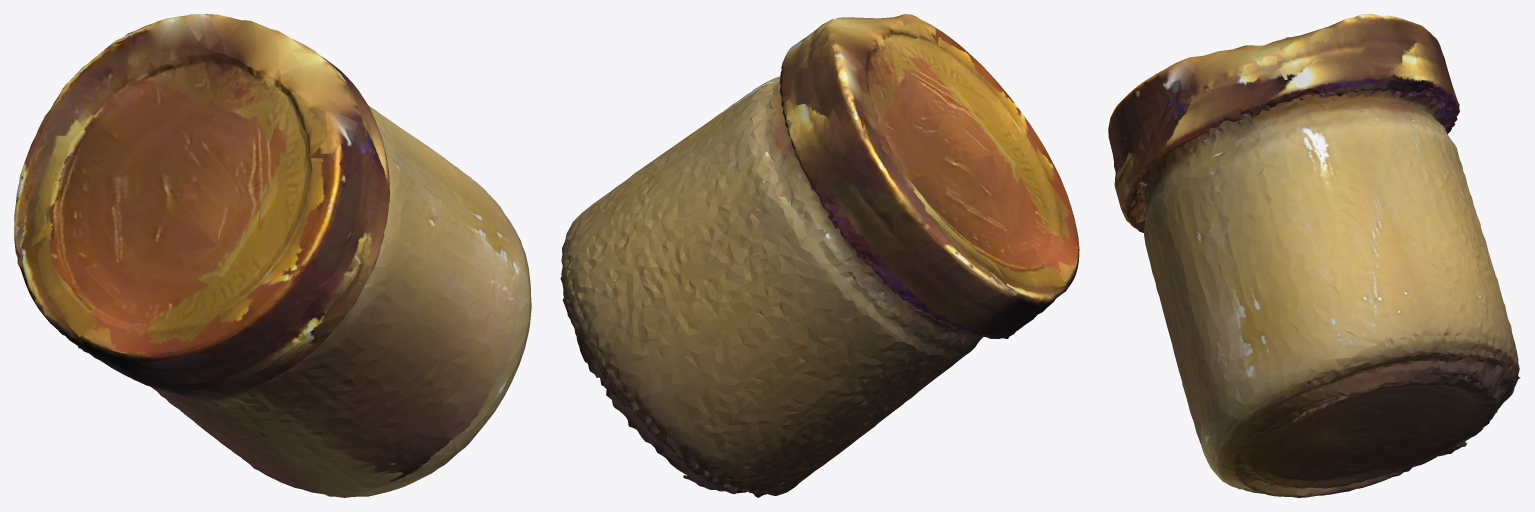
Rendered from Honig.fbx.
3 views of the same model, side by side, from view 1: azimuth 30°, elevation 25°; view 2: azimuth 150°, elevation 25°; view 3: azimuth 270°, elevation 25° (orthographic). The views are drawn at different scales.
Visible parts, largest first — view 1: Honig_tex_high; view 2: Honig_tex_high; view 3: Honig_tex_high.
Boxes of the visible parts, bbox=[...] form: Honig_tex_high: bbox=[14, 14, 531, 497]; Honig_tex_high: bbox=[560, 14, 1079, 497]; Honig_tex_high: bbox=[1108, 14, 1520, 497].
Size of the model in its own units: 13.11 by 12.78 by 10.92.
